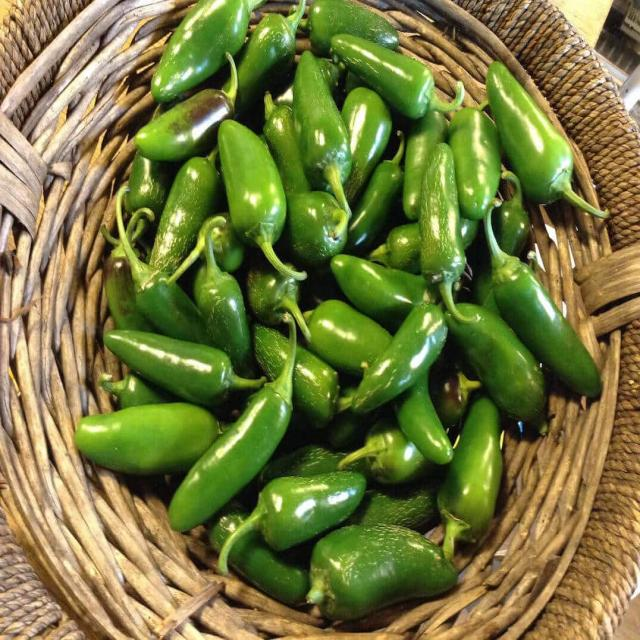Jalepeno: (268, 233, 469, 497), (488, 205, 594, 432), (420, 376, 530, 585), (301, 505, 460, 640), (487, 54, 591, 248), (205, 456, 366, 575), (51, 384, 225, 488), (128, 30, 246, 171), (213, 108, 295, 306), (94, 330, 261, 408), (289, 56, 355, 223), (410, 138, 460, 322)
